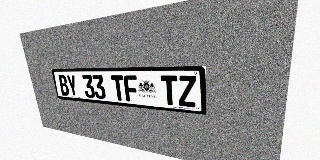3: (92, 75, 106, 99), (82, 75, 95, 98)
B: (58, 75, 70, 96)
F: (123, 75, 139, 102)
T: (160, 75, 178, 106), (111, 75, 126, 101)
Y: (66, 75, 79, 97)
Z: (178, 76, 197, 107)
